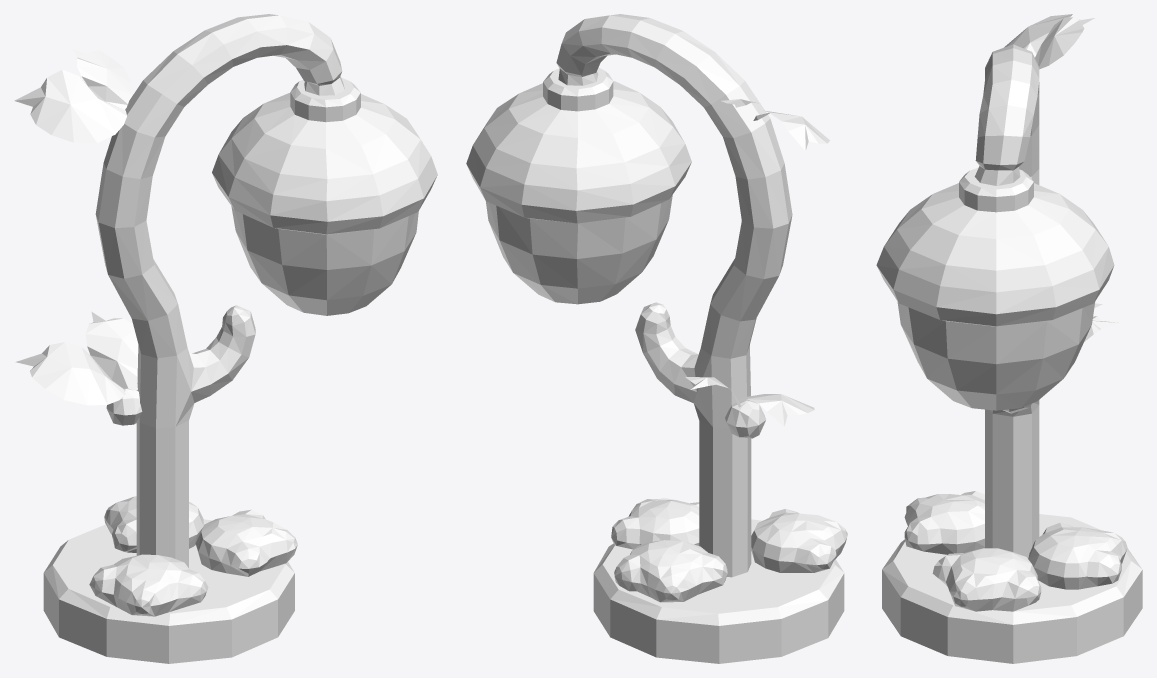
Rendered from g_w_acorn.glb.
The picture shows the model from 3 angles, left to right: view 1: azimuth 30°, elevation 25°; view 2: azimuth 150°, elevation 25°; view 3: azimuth 270°, elevation 25°; orthographic projection. The views are drawn at different scales.
Parts seen in each view (by area): view 1: geometry_0; view 2: geometry_0; view 3: geometry_0.
Boxes of the visible parts, x1=… form: geometry_0: x1=14, y1=14, x2=437, y2=663; geometry_0: x1=466, y1=14, x2=847, y2=663; geometry_0: x1=876, y1=14, x2=1142, y2=663.
Size of the model in its own units: 0.1133 by 0.1689 by 0.0693.
Materials: 1 (1 with a texture image).
